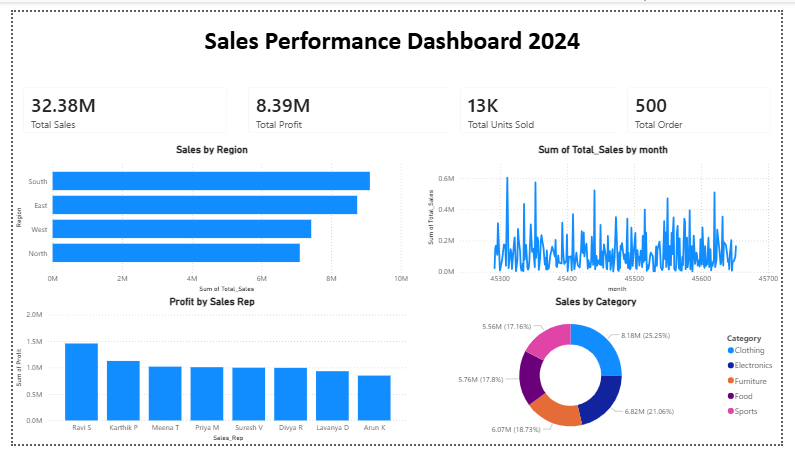

The dashboard page shown, as its layout file describes it:
{"tool":"powerbi","page":{"name":"Page 1","canvas":[1280,720],"ordinal":0},"visuals":[{"type":"clusteredBarChart","title":"Sales by Region","fields":{"Category":["Sales_Data.Region"],"Y":["Sum(Sales_Data.Total_Sales)"]},"box":[0,218.3,663.4,253.7],"z":0},{"type":"donutChart","title":"Sales by Category","fields":{"Category":["Sales_Data.Category"],"Y":["Sum(Sales_Data.Total_Sales)"]},"box":[663.4,472,616.6,248.1],"z":1000},{"type":"lineChart","fields":{"Category":["Sales_Data.Date"],"Y":["Sum(Sales_Data.Total_Sales)"]},"box":[686.1,218.3,593.9,253.7],"z":2000},{"type":"clusteredColumnChart","title":"Profit by Sales Rep","fields":{"Category":["Sales_Data.Sales_Rep"],"Y":["Sum(Sales_Data.Profit)"]},"box":[0,472,663.4,248.1],"z":3000},{"type":"cardVisual","fields":{"Data":["Sum(Sales_Data.Total_Sales)"]},"box":[0,107.7,374.2,110.6],"z":4000},{"type":"cardVisual","fields":{"Data":["Sum(Sales_Data.Profit)"]},"box":[374.2,107.7,374.2,110.6],"z":5000},{"type":"cardVisual","fields":{"Data":["Sum(Sales_Data.Units_Sold)"]},"box":[728.6,107.7,300.5,110.6],"z":6000},{"type":"cardVisual","fields":{"Data":["CountNonNull(Sales_Data.Order_ID)"]},"box":[1006.4,107.7,273.6,110.6],"z":7000},{"type":"textbox","box":[107.7,14.2,1047.5,70.9],"z":7001}]}

Visuals, with their boxes in screenshot pixels (x1, y1, x2, y2), scaled from the page's 1280x720 canvas onto the 795x454 screenshot:
"Sales by Region" clusteredBarChart: crop(0, 138, 412, 298)
"Sales by Category" donutChart: crop(412, 298, 794, 453)
lineChart - Sales_Data.Date x Sum(Sales_Data.Total_Sales): crop(426, 138, 794, 298)
"Profit by Sales Rep" clusteredColumnChart: crop(0, 298, 412, 453)
cardVisual - Sum(Sales_Data.Total_Sales): crop(0, 68, 232, 138)
cardVisual - Sum(Sales_Data.Profit): crop(232, 68, 465, 138)
cardVisual - Sum(Sales_Data.Units_Sold): crop(453, 68, 639, 138)
cardVisual - CountNonNull(Sales_Data.Order_ID): crop(625, 68, 794, 138)
textbox: crop(67, 9, 717, 54)
